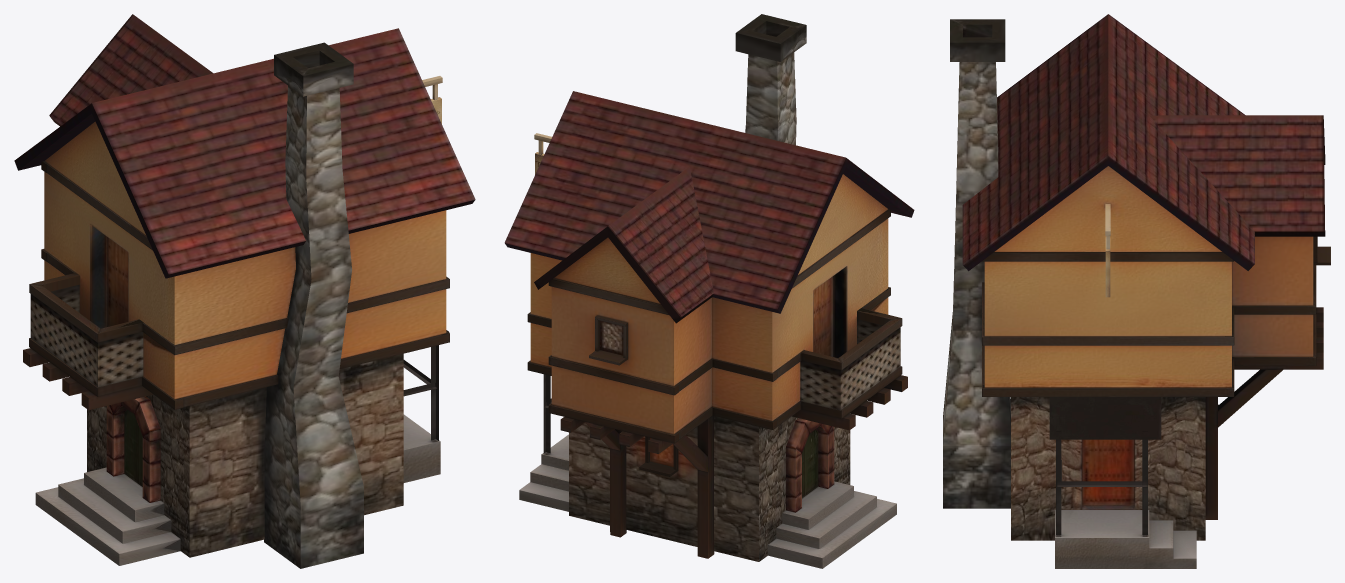
3 views of the same model, side by side, from view 1: azimuth 30°, elevation 25°; view 2: azimuth 150°, elevation 25°; view 3: azimuth 270°, elevation 25° (orthographic). The views are drawn at different scales.
Visible parts, largest first — view 1: RigModels_House; view 2: RigModels_House; view 3: RigModels_House.
Part boxes in pixels (<box>): RigModels_House: <box>14,14,475,568</box>; RigModels_House: <box>504,14,914,568</box>; RigModels_House: <box>943,14,1330,568</box>.
Bounding box in the file's own units: 1236 × 1135 × 1498.
1 material, 1 textured.
